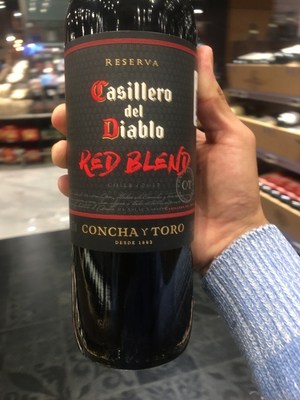casillero del diablo red blend: (48, 18, 225, 337)
